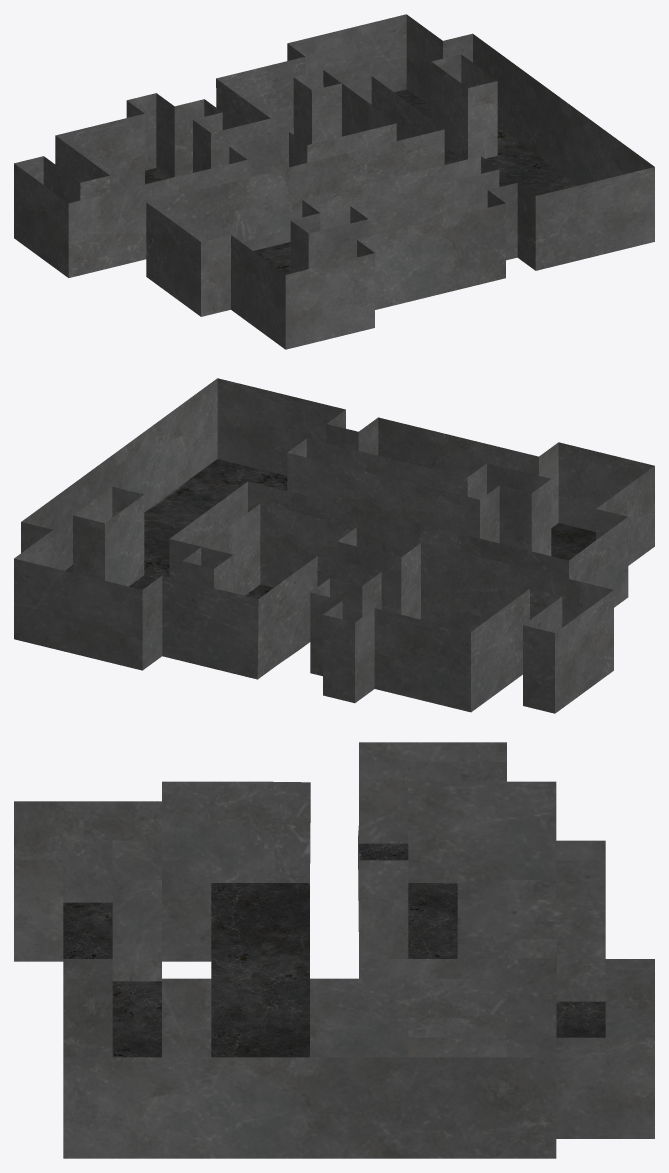
The model's file is Game Map.fbx.
3 views of the same model, one above another, from view 1: azimuth 30°, elevation 25°; view 2: azimuth 150°, elevation 25°; view 3: azimuth 270°, elevation 25° (orthographic). The views are drawn at different scales.
Parts seen in each view (by area): view 1: pPlane1; view 2: pPlane1; view 3: pPlane1.
Part boxes in pixels (x1,y1,x2,y2): pPlane1: (14,14,654,349); pPlane1: (14,378,654,713); pPlane1: (14,742,654,1158).
Bounding box in the file's own units: 584 × 87.88 × 502.
